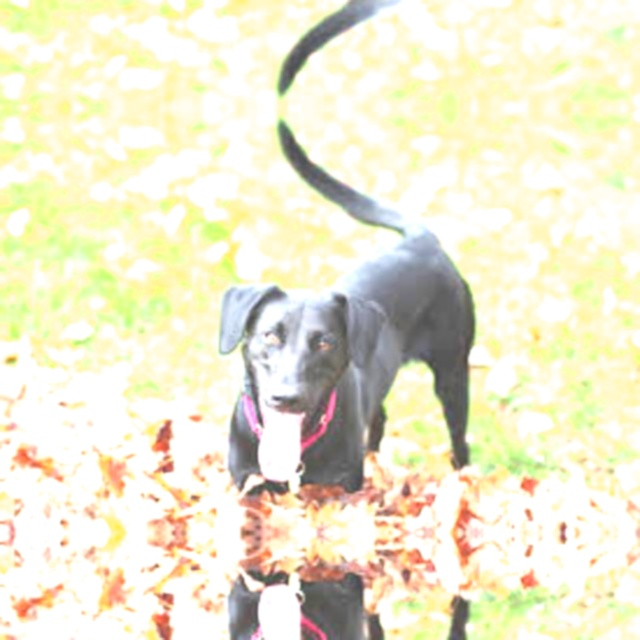dog: (198, 170, 512, 490), (198, 576, 512, 640), (198, 0, 512, 44)
